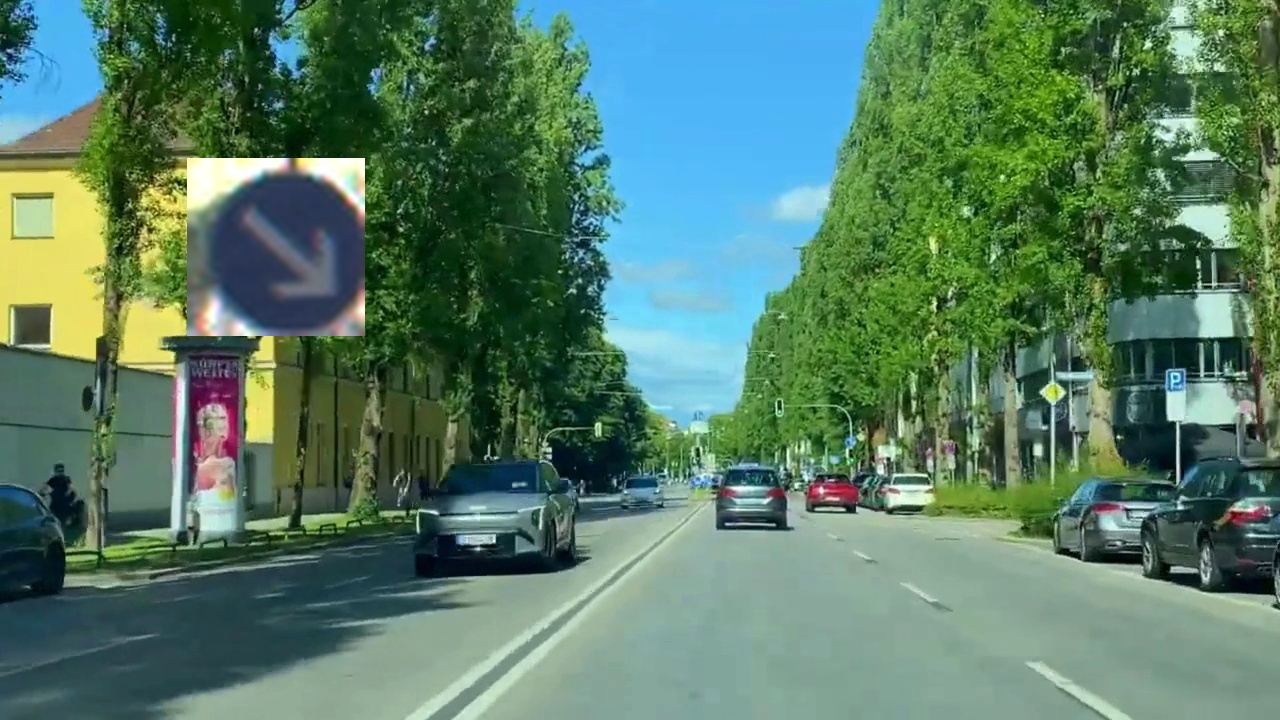Keep right: (187, 158, 365, 336)
